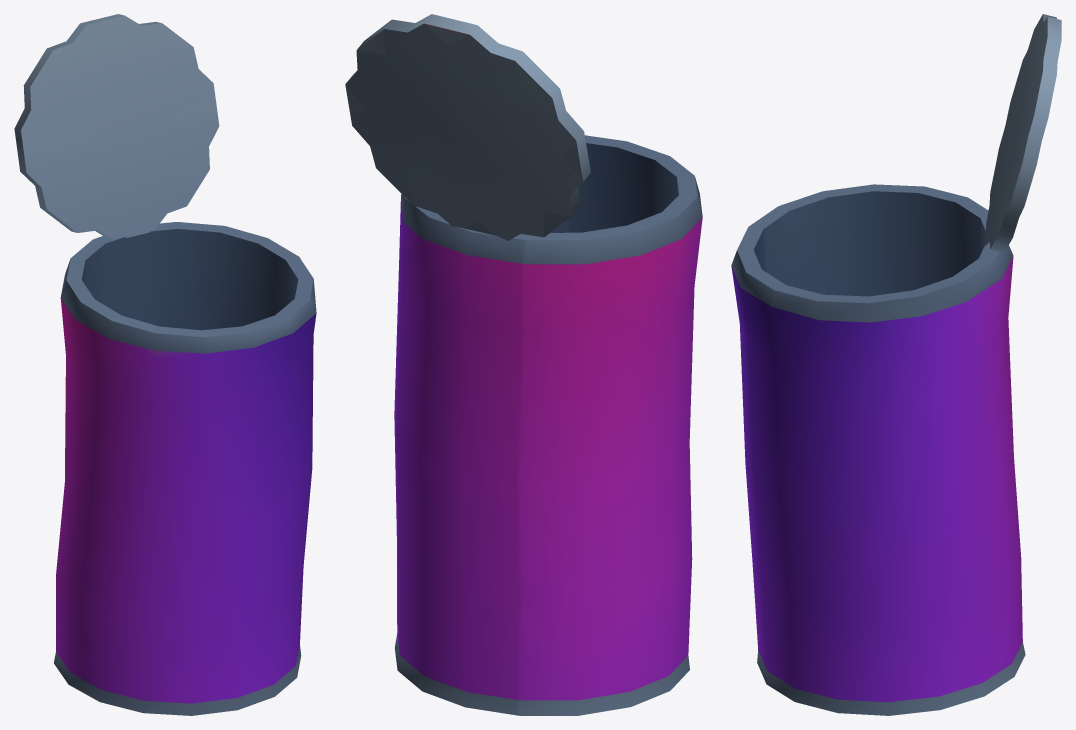
File: can3.fbx
3 renders of one model, left to right at view 1: azimuth 30°, elevation 25°; view 2: azimuth 150°, elevation 25°; view 3: azimuth 270°, elevation 25°, orthographic. The views are drawn at different scales.
Visible parts, largest first — view 1: can3; view 2: can3; view 3: can3.
Boxes of the visible parts, x1=… form: can3: x1=14, y1=14, x2=316, y2=715; can3: x1=345, y1=14, x2=702, y2=715; can3: x1=731, y1=14, x2=1061, y2=715.
Size of the model in its own units: 0.00111 by 0.00282 by 0.00132.
1 material, 1 textured.
